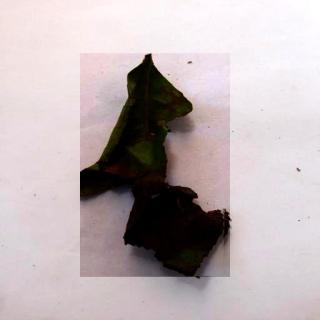Algal Leaf: (82, 55, 232, 279)
